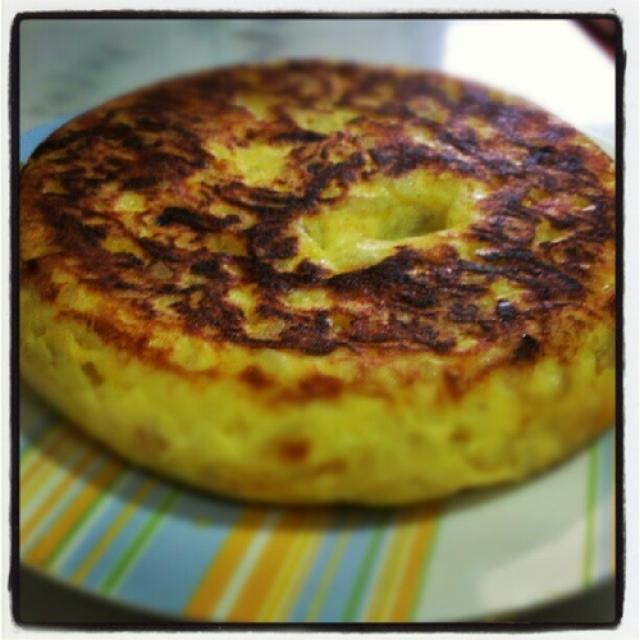面包点心: (32, 58, 620, 508)
